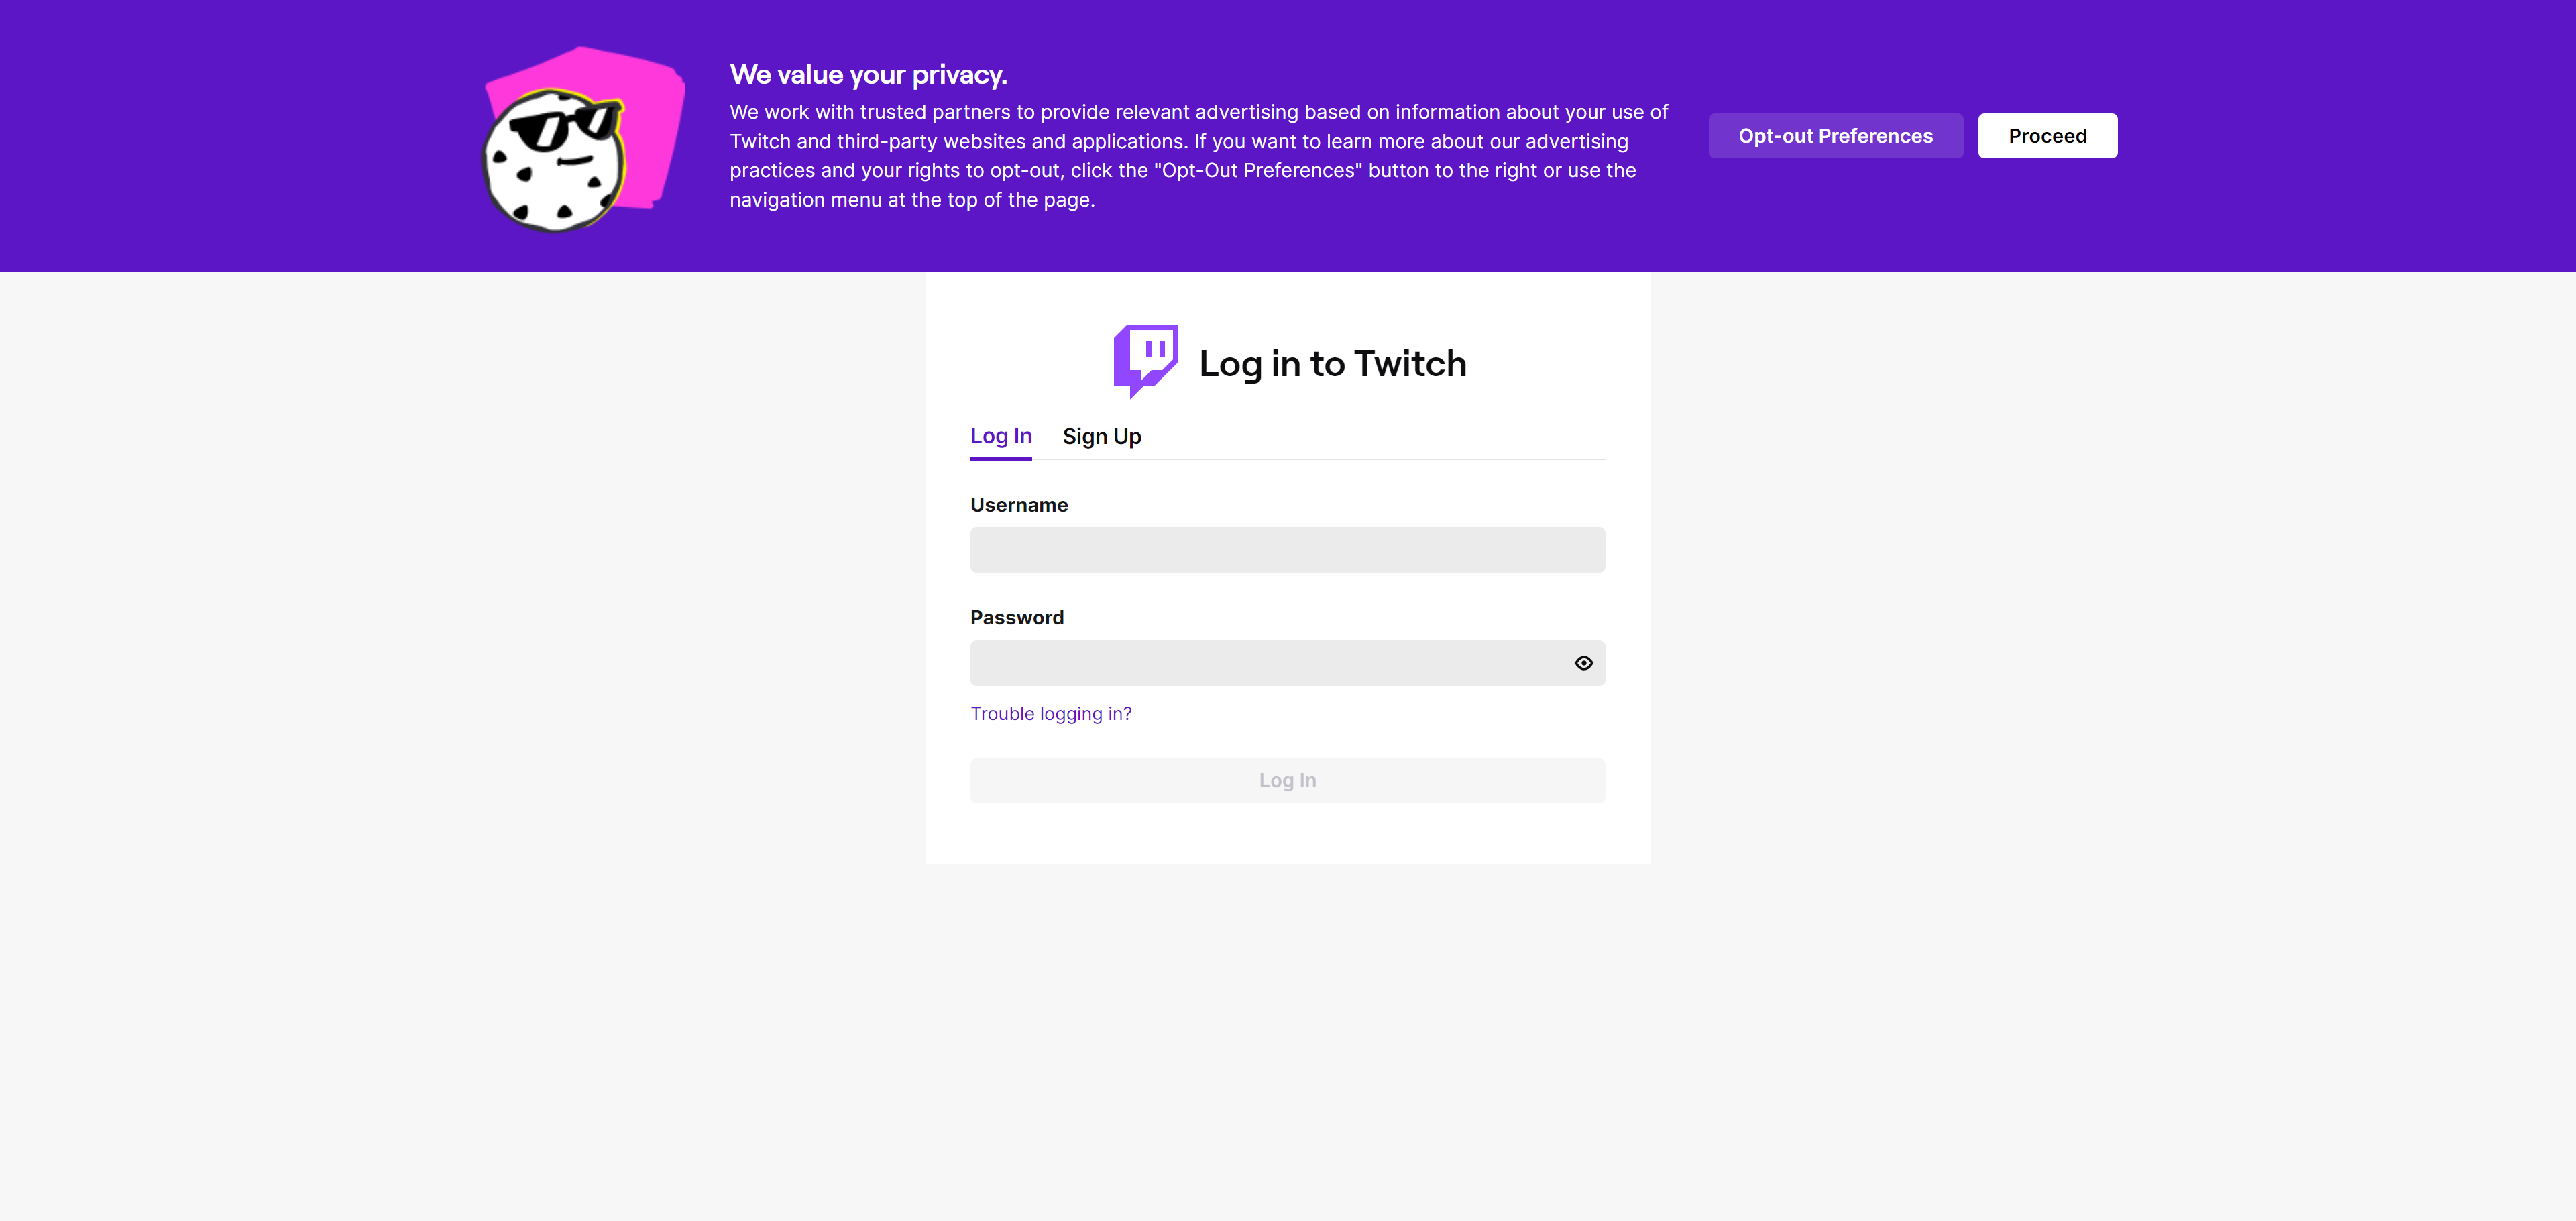login_button: (971, 758, 1605, 804)
login_form: (964, 488, 1612, 810)
